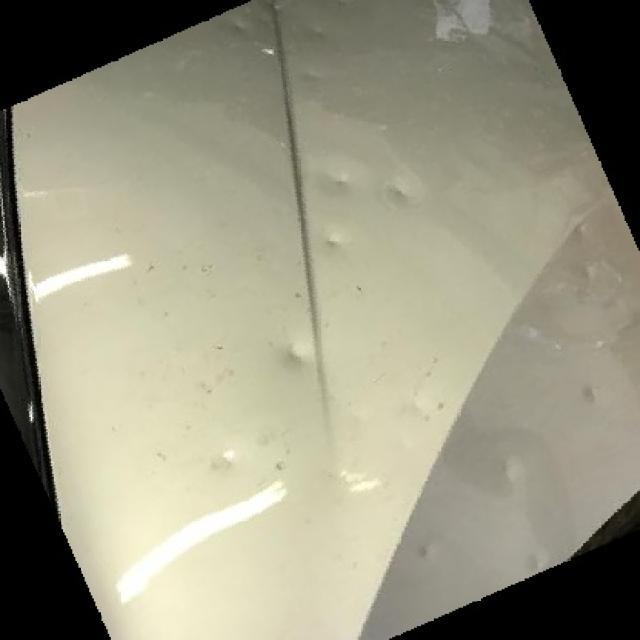dent: (378, 174, 423, 211), (326, 168, 362, 197), (281, 344, 314, 372), (501, 452, 526, 486), (580, 381, 603, 407), (217, 449, 238, 475), (415, 541, 438, 561), (529, 550, 549, 572), (306, 26, 329, 43), (230, 21, 250, 38), (326, 232, 342, 251), (307, 67, 323, 86), (576, 223, 589, 240)
